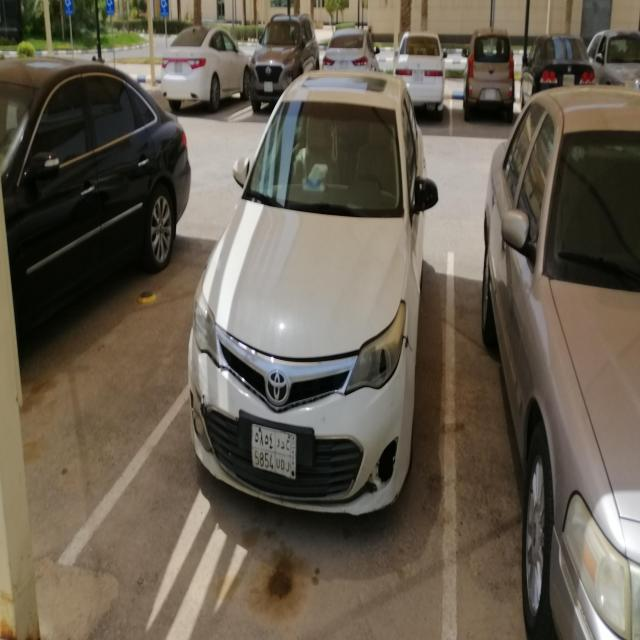license_plate: (251, 421, 296, 480), (562, 74, 575, 88), (485, 89, 496, 101), (413, 70, 423, 82), (264, 82, 273, 92), (174, 62, 182, 73), (339, 61, 348, 70)
